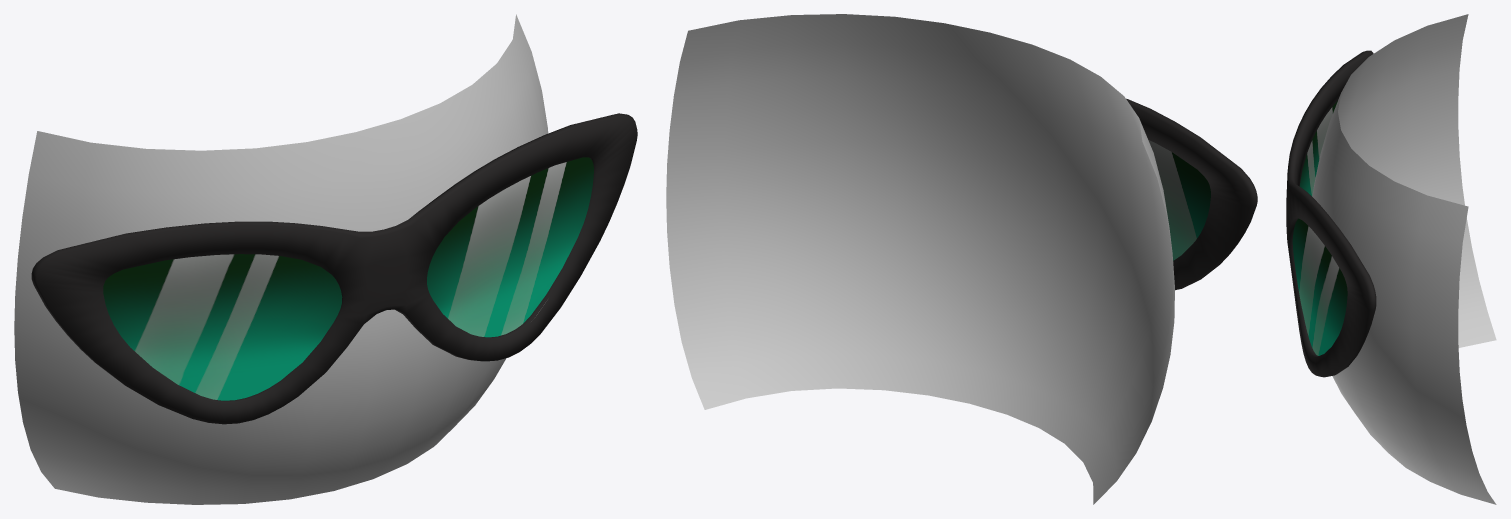
Rendered from Lipstick and Shades.fbx.
The picture shows the model from 3 angles, left to right: view 1: azimuth 30°, elevation 25°; view 2: azimuth 150°, elevation 25°; view 3: azimuth 270°, elevation 25°; orthographic projection. The views are drawn at different scales.
Visible parts, largest first — view 1: Lipstick and Shades; view 2: Lipstick and Shades; view 3: Lipstick and Shades.
Boxes of the visible parts, left/top/right/bottom form: Lipstick and Shades: left=14, top=14, right=637, bottom=504; Lipstick and Shades: left=666, top=14, right=1257, bottom=504; Lipstick and Shades: left=1286, top=14, right=1496, bottom=504.
Size of the model in its own units: 63.03 by 37.73 by 23.03.
